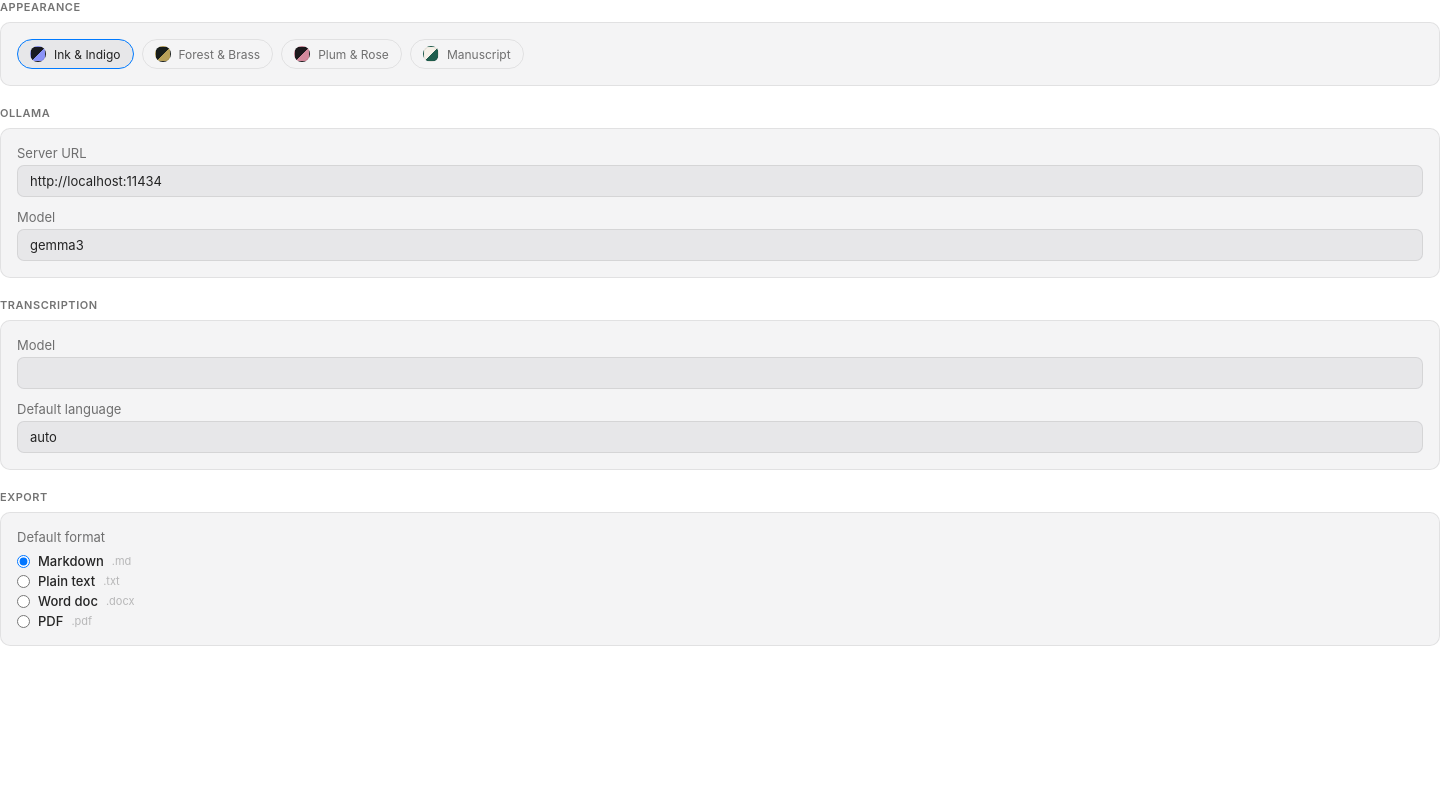
Test: SettingsForm — Appearance section › aria-pressed moves to the clicked theme
Click the button "Manuscript".
click(467, 54)  # box 410,39 -> 524,69
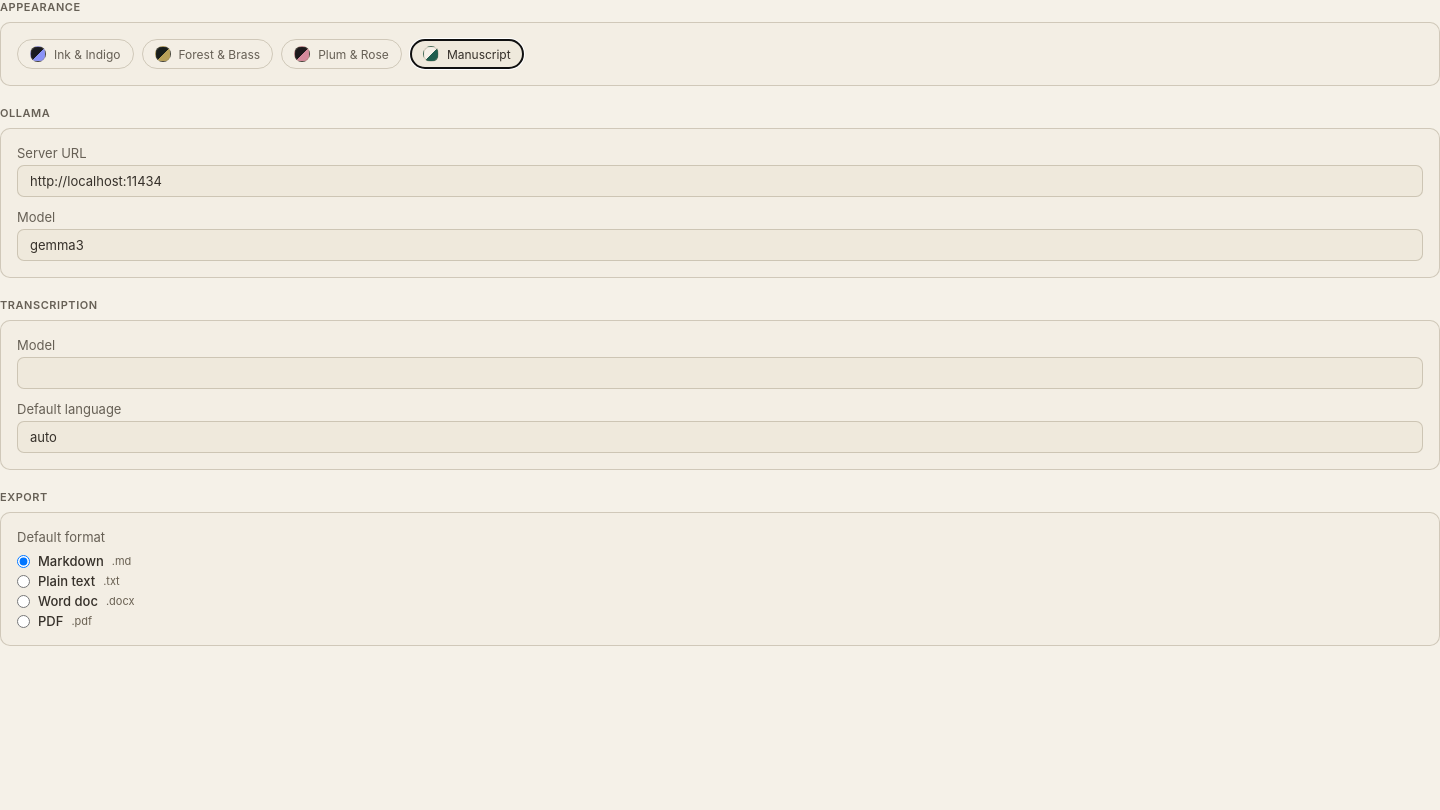
Check: the button "Manuscript" is pressed, box 410,39 -> 524,69
Check: the button "Ink & Indigo" is not pressed, box 17,39 -> 134,69
